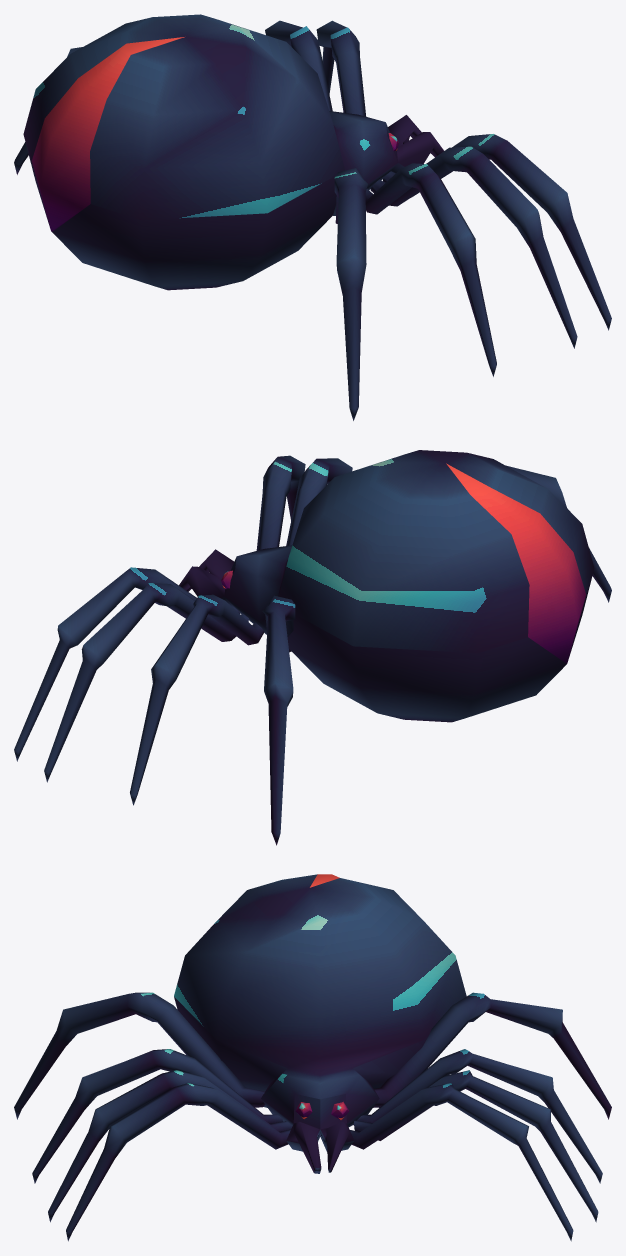
File: Spider.fbx
3 renders of one model, top to bottom at view 1: azimuth 30°, elevation 25°; view 2: azimuth 150°, elevation 25°; view 3: azimuth 270°, elevation 25°, orthographic. The views are drawn at different scales.
Parts seen in each view (by area): view 1: Spider; view 2: Spider; view 3: Spider.
Part boxes in pixels (box(x1,y1,x2,y2)): Spider: box(14, 14, 611, 420); Spider: box(14, 450, 611, 845); Spider: box(14, 874, 611, 1241).
Bounding box in the file's own units: 2.97 × 1.74 × 4.08.
